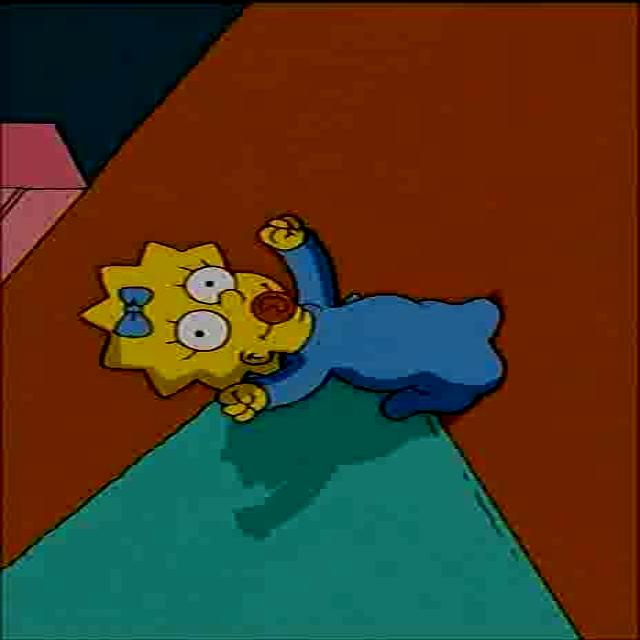Maggie Simpson: (75, 238, 317, 398)
